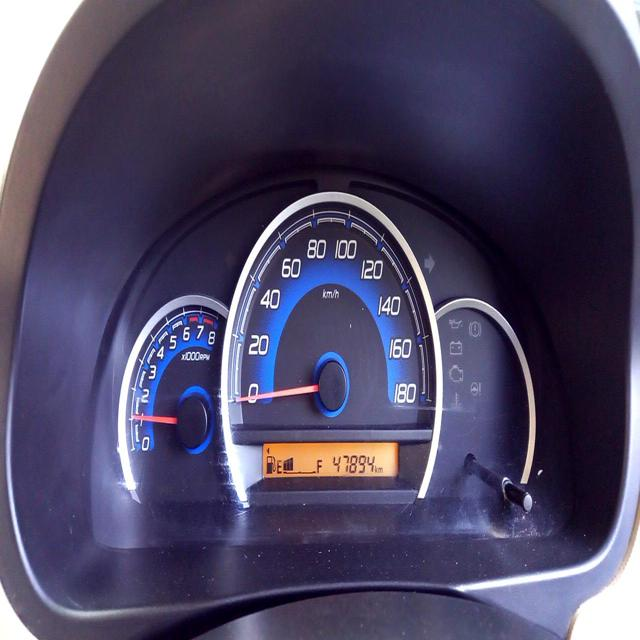odometer: (330, 448, 377, 475)
